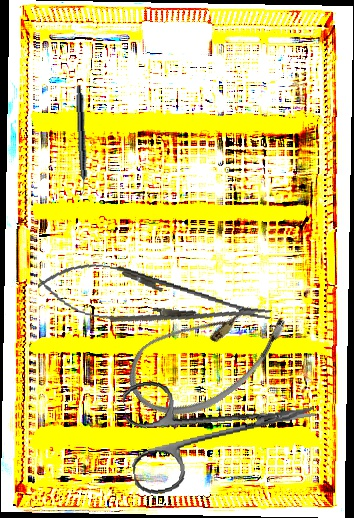Cannula: (115, 270, 300, 440)
Handpiece: (73, 85, 89, 197)
Iris Scissors: (121, 359, 323, 498)
Needle Holder: (34, 254, 275, 345)
